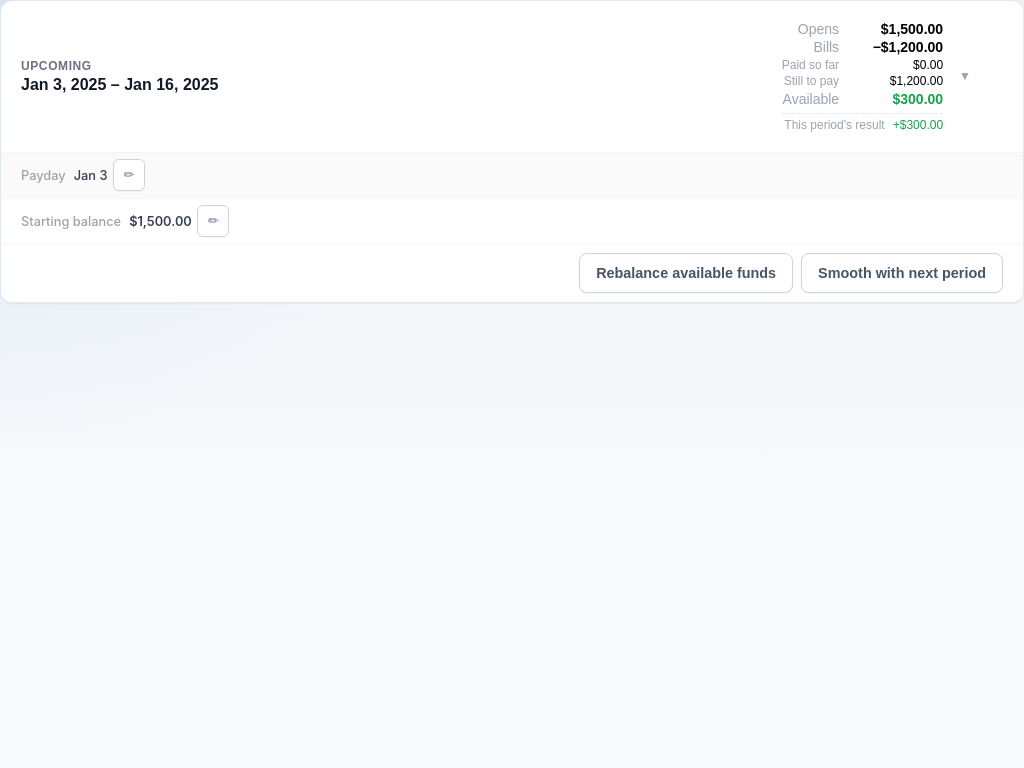
Test: PeriodCard - smoothing › shows an empty preview when no next-period bills are eligible
Click the button "Smooth with next period".
click(902, 273)  # box x1=801 y1=253 x2=1003 y2=293
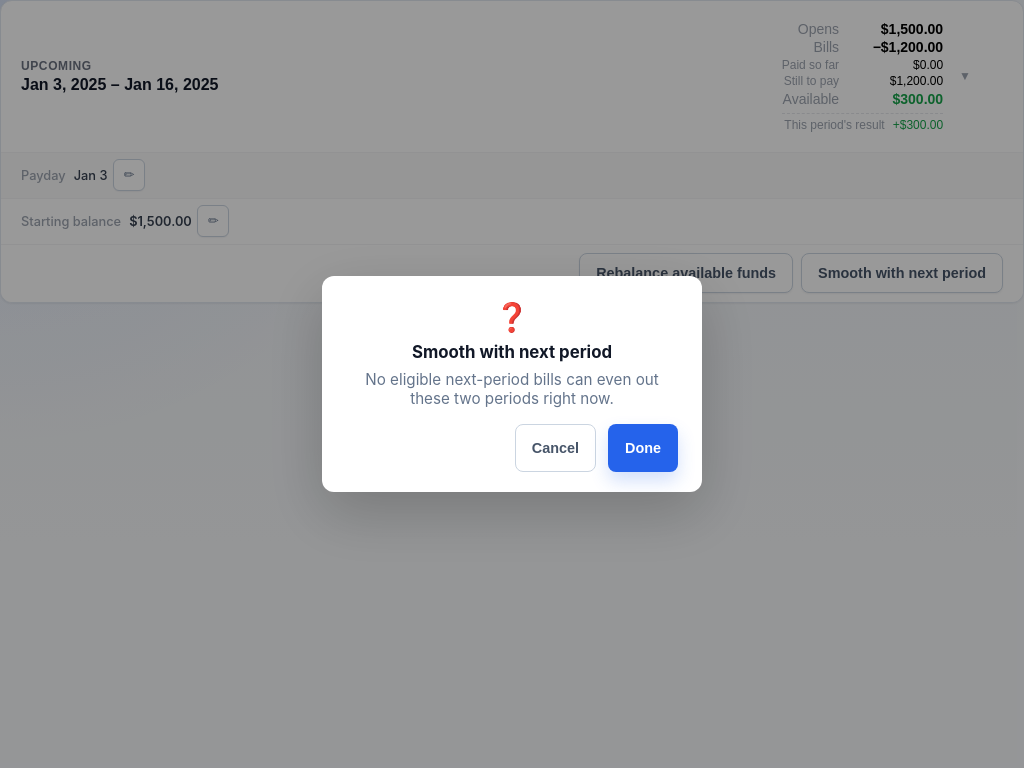
Result: the text "No eligible next-period bills" is shown at x1=365 y1=370 x2=659 y2=408
